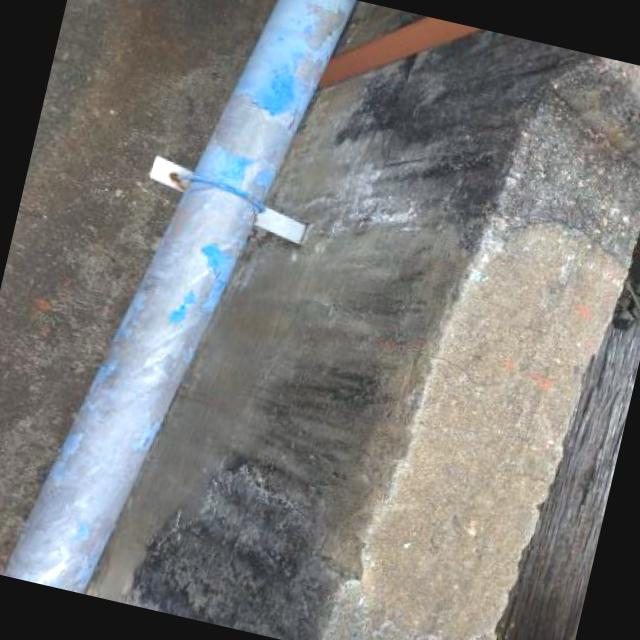gas: (0, 0, 357, 593)
